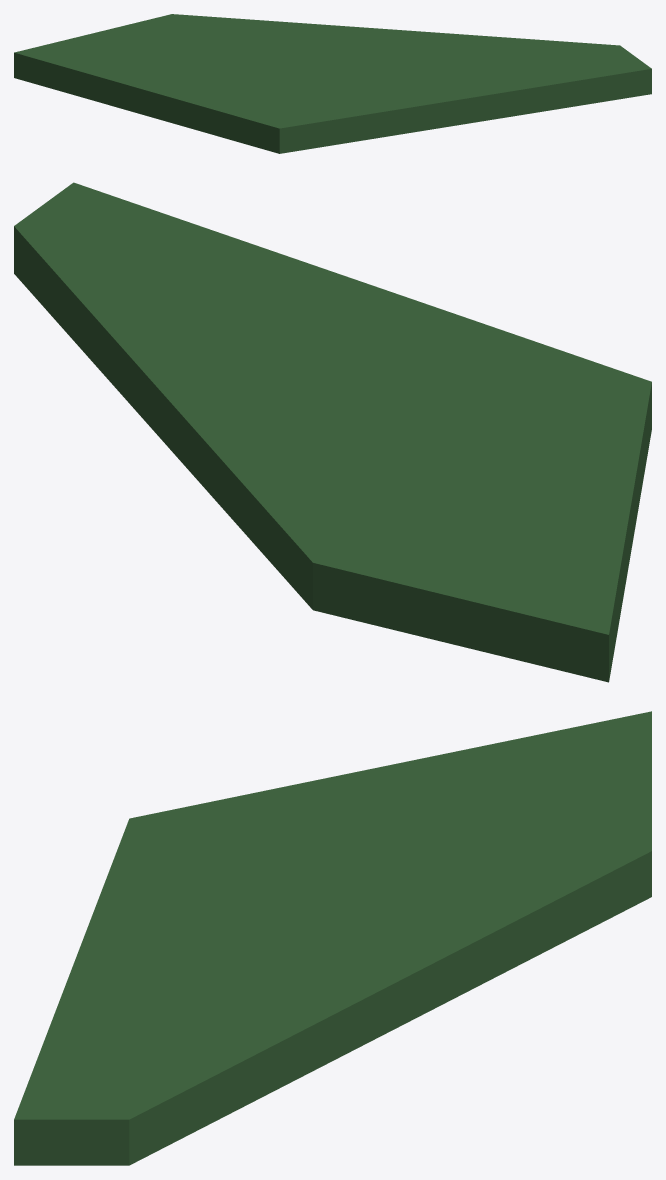
File: x_proval_00_172_1_rmstrd.fbx
3 views of the same model, one above another, from view 1: azimuth 30°, elevation 25°; view 2: azimuth 150°, elevation 25°; view 3: azimuth 270°, elevation 25° (orthographic). The views are drawn at different scales.
Visible parts, largest first — view 1: x_proval_00_172_1_rmstrd1; view 2: x_proval_00_172_1_rmstrd1; view 3: x_proval_00_172_1_rmstrd1.
Part boxes in pixels (x1=…): x_proval_00_172_1_rmstrd1: x1=14, y1=14, x2=651, y2=153; x_proval_00_172_1_rmstrd1: x1=14, y1=182, x2=651, y2=682; x_proval_00_172_1_rmstrd1: x1=14, y1=711, x2=651, y2=1165.
Size of the model in its own units: 3.81 by 0.2 by 2.51.
